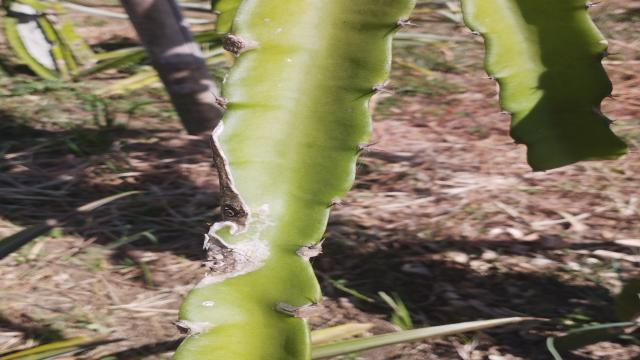stemcanker: (249, 199, 274, 226), (198, 297, 217, 311)
